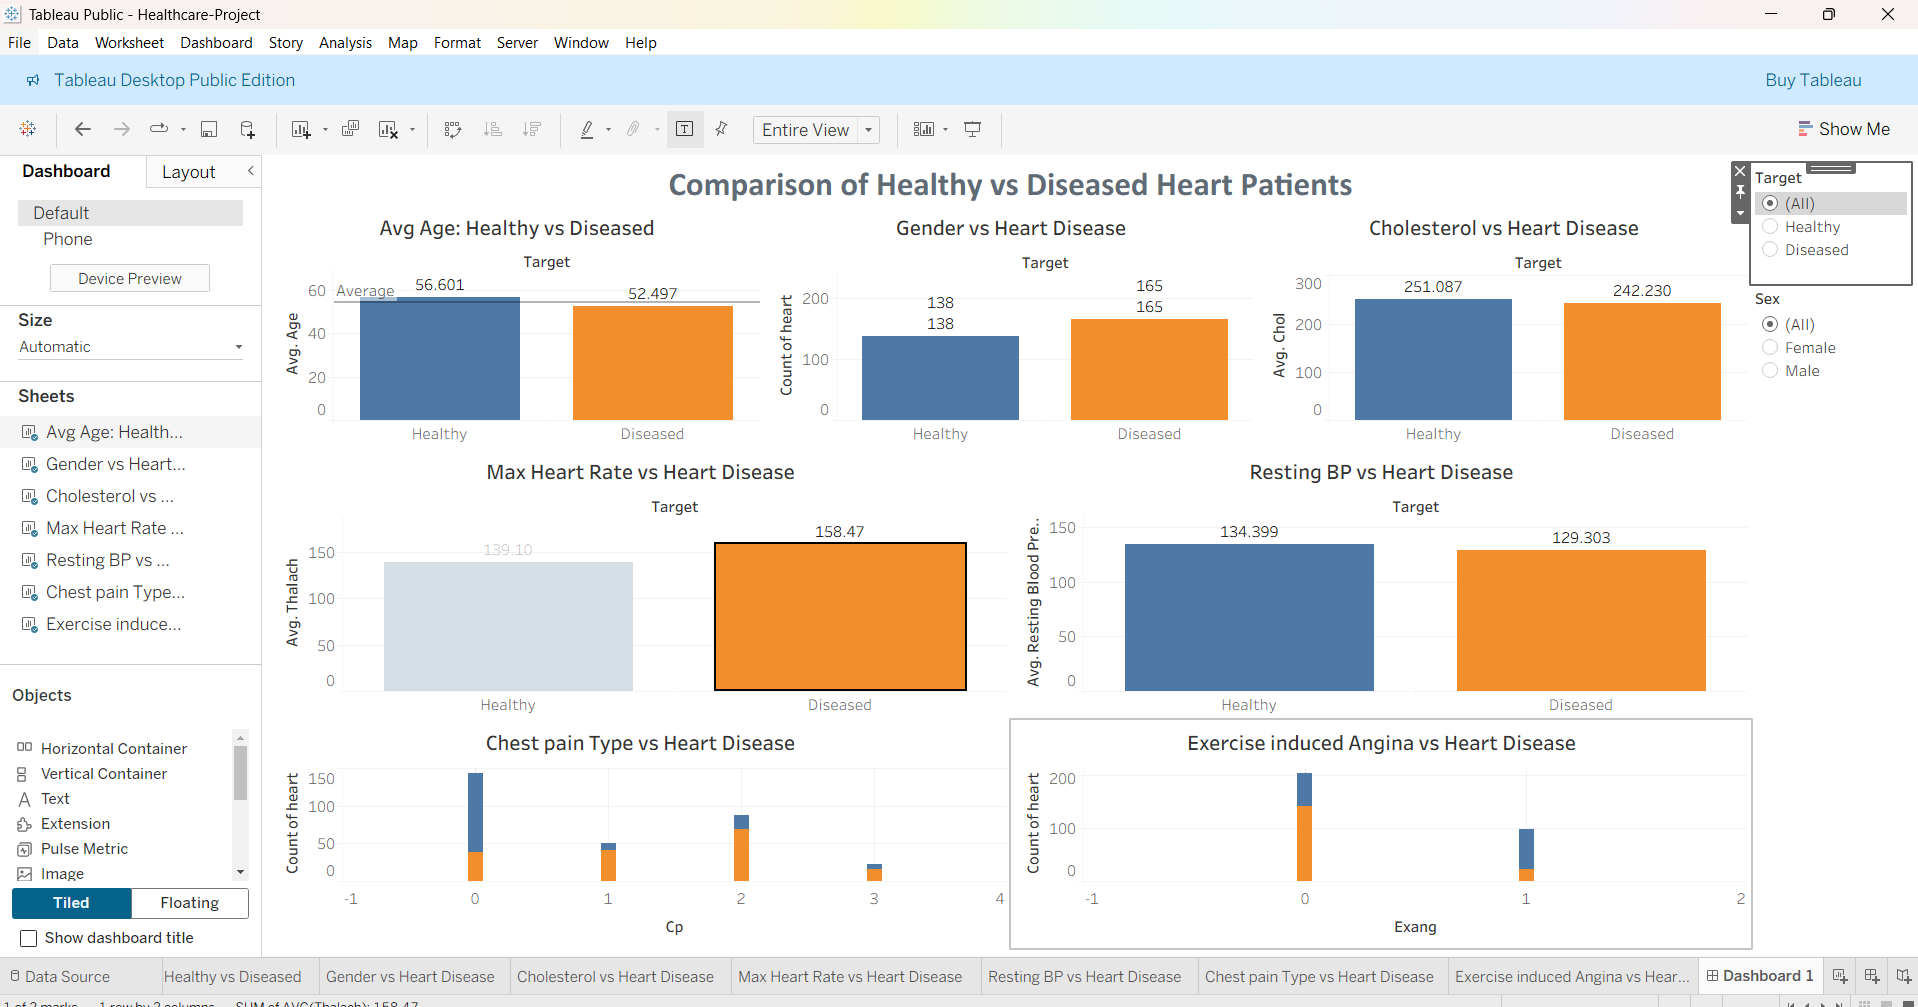

Layout of this report page (visuals, bound fields, positions):
{"tool":"tableau","page":{"name":"Dashboard 1","canvas":[1000,1000],"units":"permille","ordinal":0},"visuals":[{"type":"text","box":[4.8,10,893.8,52.4]},{"type":"filter","title":"Avg Age: Healthy vs Diseased","param":"[federated.1lcnz5m0y49rmf19qibhz0ryc1ij].[none:target:ok]","box":[898.6,10,96.6,151.1]},{"type":"worksheet","title":"Avg Age: Healthy vs Diseased","mark":"Bar","rows":["age"],"cols":["target"],"box":[4.8,62.4,297.9,304.6]},{"type":"worksheet","title":"Gender vs Heart Disease","mark":"Bar","rows":["heart_E443854063DC4D7EA94D0DF4B3AD573B"],"cols":["target"],"box":[302.8,62.4,297.9,304.6]},{"type":"worksheet","title":"Cholesterol vs Heart Disease","mark":"Bar","rows":["chol"],"cols":["target"],"box":[600.7,62.4,297.9,304.6]},{"type":"filter","title":"Gender vs Heart Disease","param":"[federated.1lcnz5m0y49rmf19qibhz0ryc1ij].[none:sex:ok]","box":[898.6,161.1,96.6,163.6]},{"type":"worksheet","title":"Max Heart Rate vs Heart Disease","mark":"Bar","rows":["thalach"],"cols":["target"],"box":[4.8,367,446.9,338.3]},{"type":"worksheet","title":"Resting BP vs Heart Disease","mark":"Bar","rows":["trestbps"],"cols":["target"],"box":[451.7,367,446.9,338.3]},{"type":"worksheet","title":"Chest pain Type vs Heart Disease","mark":"Bar","rows":["heart_E443854063DC4D7EA94D0DF4B3AD573B"],"cols":["cp"],"box":[4.8,705.4,446.9,284.6]},{"type":"worksheet","title":"Exercise induced Angina vs Heart Disease","mark":"Bar","rows":["heart_E443854063DC4D7EA94D0DF4B3AD573B"],"cols":["exang"],"box":[451.7,705.4,446.9,284.6]}]}

Visuals, with their boxes on the dashboard's canvas, which has no fixed pixel size, in thousandths of its width and height (x1, y1, x2, y2). These are canvas units, not pixel positions in the 1918x1007 screenshot, which may show the page scaled, cropped or inside an application window:
text: 5, 10, 899, 62
"Avg Age: Healthy vs Diseased" filter: 899, 10, 995, 161
"Avg Age: Healthy vs Diseased" worksheet (Bar marks): 5, 62, 303, 367
"Gender vs Heart Disease" worksheet (Bar marks): 303, 62, 601, 367
"Cholesterol vs Heart Disease" worksheet (Bar marks): 601, 62, 899, 367
"Gender vs Heart Disease" filter: 899, 161, 995, 325
"Max Heart Rate vs Heart Disease" worksheet (Bar marks): 5, 367, 452, 705
"Resting BP vs Heart Disease" worksheet (Bar marks): 452, 367, 899, 705
"Chest pain Type vs Heart Disease" worksheet (Bar marks): 5, 705, 452, 990
"Exercise induced Angina vs Heart Disease" worksheet (Bar marks): 452, 705, 899, 990
